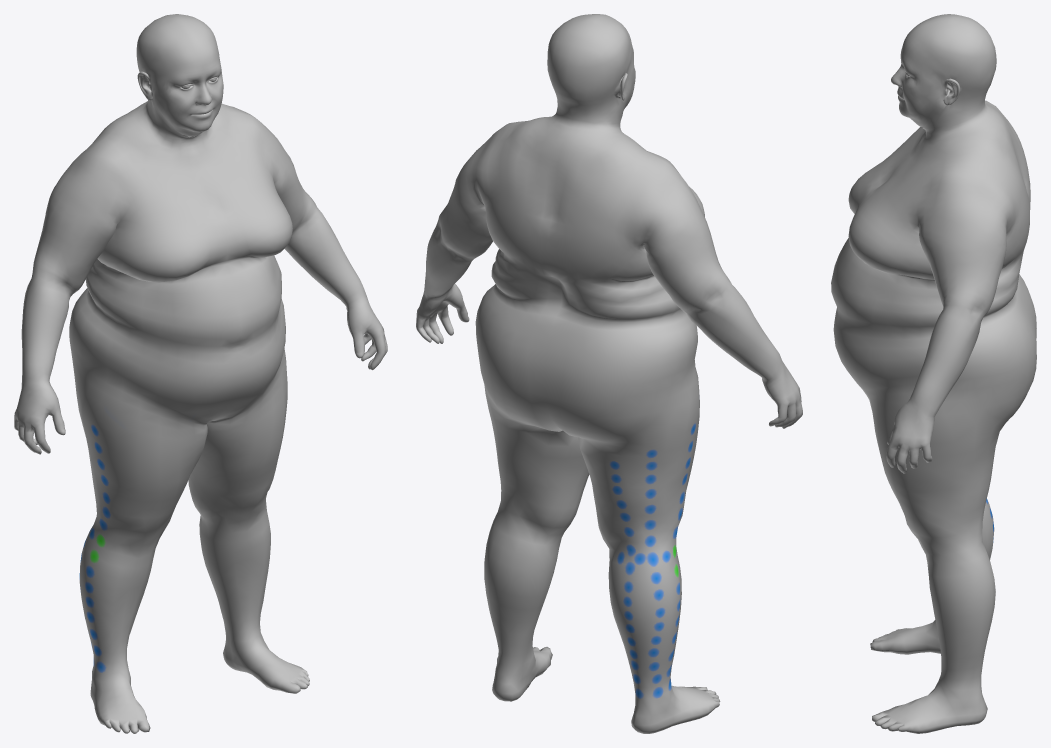
Rendered from 1135011-crossleg-all.gltf.
The picture shows the model from 3 angles, left to right: view 1: azimuth 30°, elevation 25°; view 2: azimuth 150°, elevation 25°; view 3: azimuth 270°, elevation 25°; orthographic projection. The views are drawn at different scales.
Visible parts, largest first — view 1: mc-Female_61in_250lbs-a-pose; view 2: mc-Female_61in_250lbs-a-pose; view 3: mc-Female_61in_250lbs-a-pose.
Boxes of the visible parts, x1,y1,x2,y2 form: mc-Female_61in_250lbs-a-pose: [14, 14, 387, 733]; mc-Female_61in_250lbs-a-pose: [416, 14, 802, 733]; mc-Female_61in_250lbs-a-pose: [831, 14, 1036, 733].
Bounding box in the file's own units: 2.64 × 4.66 × 1.3.
1 material, 1 textured.
